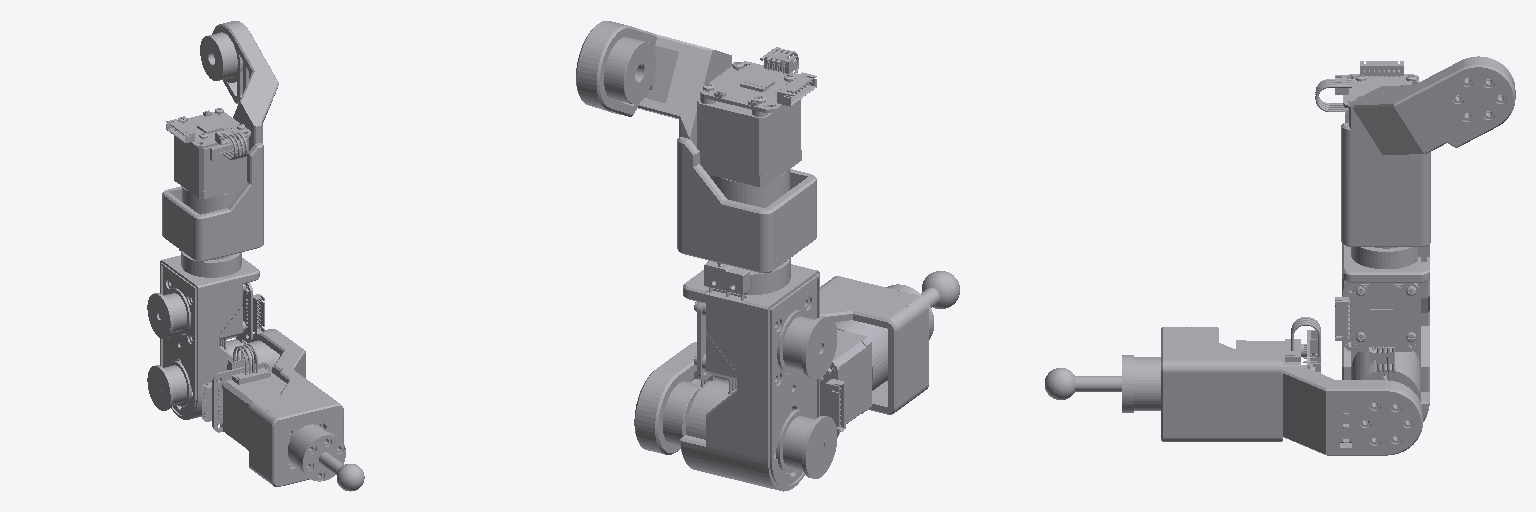
robot.urdf — zero_arm_ovo:
<?xml version='1.0' encoding='utf-8'?>
<robot name="zero_arm_ovo">
  <!--Fresh STEP geometry, CAD +Y mapped to URDF +Z. Joint axes use the prior reference; hardware calibration pending.-->
  <!--Density 1000 kg/m3, joint limits, effort and velocity are placeholders.-->
  <link name="base">
    <inertial>
      <origin xyz="-5.25132771592e-05 -9.50781418959e-05 0.0353147400976" rpy="0 0 0" />
      <mass value="0.599326891320448" />
      <inertia ixx="0.0028133852762345" ixy="-4.9137299116208e-09" ixz="2.5675035728797e-06" iyy="0.0028150319631659" iyz="-2.2411196877041e-06" izz="0.0028853221934123" />
    </inertial>
    <visual>
      <origin xyz="0 0 0" rpy="0 0 0" />
      <geometry>
        <mesh filename="meshes/base.stl" />
      </geometry>
      <material name="base_color">
        <color rgba="0.72 0.72 0.75 1" />
      </material>
    </visual>
    <collision>
      <origin xyz="0 0 0" rpy="0 0 0" />
      <geometry>
        <mesh filename="meshes/base.stl" />
      </geometry>
    </collision>
  </link>
  <link name="link1">
    <inertial>
      <origin xyz="0.00466703823861 -6.88827807955e-05 0.044154756011" rpy="0 0 0" />
      <mass value="0.2690697023518372" />
      <inertia ixx="0.00085164878265805" ixy="-4.7701630491365e-07" ixz="-6.8504988895326e-05" iyy="0.00090973022426214" iyz="-2.8237849295719e-06" izz="0.0001342023861752" />
    </inertial>
    <visual>
      <origin xyz="0 0 0" rpy="0 0 0" />
      <geometry>
        <mesh filename="meshes/link1.stl" />
      </geometry>
      <material name="link1_color">
        <color rgba="0.72 0.72 0.75 1" />
      </material>
    </visual>
    <collision>
      <origin xyz="0 0 0" rpy="0 0 0" />
      <geometry>
        <mesh filename="meshes/link1.stl" />
      </geometry>
    </collision>
  </link>
  <link name="link2">
    <inertial>
      <origin xyz="0.0158818074648 -0.000124089798024 0.116480554286" rpy="0 0 0" />
      <mass value="0.3430721223716928" />
      <inertia ixx="0.001746962886185" ixy="9.7803158048513e-07" ixz="-1.9283488596223e-05" iyy="0.00179164641067" iyz="-3.2679740146233e-07" izz="0.00015237835862665" />
    </inertial>
    <visual>
      <origin xyz="0 0 0" rpy="0 0 0" />
      <geometry>
        <mesh filename="meshes/link2.stl" />
      </geometry>
      <material name="link2_color">
        <color rgba="0.72 0.72 0.75 1" />
      </material>
    </visual>
    <collision>
      <origin xyz="0 0 0" rpy="0 0 0" />
      <geometry>
        <mesh filename="meshes/link2.stl" />
      </geometry>
    </collision>
  </link>
  <link name="link3">
    <inertial>
      <origin xyz="-0.0320286849508 -0.0409332962763 -0.0475378299768" rpy="0 0 0" />
      <mass value="0.16159443638056842" />
      <inertia ixx="0.00020336531424333" ixy="-3.3155610760828e-05" ixz="-5.7382758594308e-05" iyy="0.00020487444029079" iyz="-4.8177228132067e-05" izz="0.00011972862773918" />
    </inertial>
    <visual>
      <origin xyz="0 0 0" rpy="0 0 0" />
      <geometry>
        <mesh filename="meshes/link3.stl" />
      </geometry>
      <material name="link3_color">
        <color rgba="0.72 0.72 0.75 1" />
      </material>
    </visual>
    <collision>
      <origin xyz="0 0 0" rpy="0 0 0" />
      <geometry>
        <mesh filename="meshes/link3.stl" />
      </geometry>
    </collision>
  </link>
  <link name="link4">
    <inertial>
      <origin xyz="-0.0042240675954 -6.33570940024e-06 -0.0450968772272" rpy="0 0 0" />
      <mass value="0.15872704283995062" />
      <inertia ixx="0.00017688638388463" ixy="3.6220909640916e-07" ixz="2.3906529938391e-06" iyy="0.00018656278988246" iyz="-8.3867586454131e-07" izz="5.3101946571239e-05" />
    </inertial>
    <visual>
      <origin xyz="0 0 0" rpy="0 0 0" />
      <geometry>
        <mesh filename="meshes/link4.stl" />
      </geometry>
      <material name="link4_color">
        <color rgba="0.72 0.72 0.75 1" />
      </material>
    </visual>
    <collision>
      <origin xyz="0 0 0" rpy="0 0 0" />
      <geometry>
        <mesh filename="meshes/link4.stl" />
      </geometry>
    </collision>
  </link>
  <link name="link5">
    <inertial>
      <origin xyz="-0.0314209301327 -0.0660612781571 0.00018950371412" rpy="0 0 0" />
      <mass value="0.1564668094346636" />
      <inertia ixx="0.00020425349636475" ixy="-6.2589702271727e-05" ixz="4.0020750090099e-07" iyy="7.5433567025597e-05" iyz="-6.3616422168936e-07" izz="0.00023698769470648" />
    </inertial>
    <visual>
      <origin xyz="0 0 0" rpy="0 0 0" />
      <geometry>
        <mesh filename="meshes/link5.stl" />
      </geometry>
      <material name="link5_color">
        <color rgba="0.72 0.72 0.75 1" />
      </material>
    </visual>
    <collision>
      <origin xyz="0 0 0" rpy="0 0 0" />
      <geometry>
        <mesh filename="meshes/link5.stl" />
      </geometry>
    </collision>
  </link>
  <link name="link6">
    <inertial>
      <origin xyz="1.52300899341e-10 -0.00337937571528 4.98874275223e-11" rpy="0 0 0" />
      <mass value="0.016323644728689444" />
      <inertia ixx="5.3478614931902e-06" ixy="1.3878117591544e-16" ixz="3.2057840391779e-16" iyy="1.4346331292707e-06" iyz="-4.4139699137822e-16" izz="5.3478614922713e-06" />
    </inertial>
    <visual>
      <origin xyz="0 0 0" rpy="0 0 0" />
      <geometry>
        <mesh filename="meshes/link6.stl" />
      </geometry>
      <material name="link6_color">
        <color rgba="0.72 0.72 0.75 1" />
      </material>
    </visual>
    <collision>
      <origin xyz="0 0 0" rpy="0 0 0" />
      <geometry>
        <mesh filename="meshes/link6.stl" />
      </geometry>
    </collision>
  </link>
  <joint name="joint_1" type="revolute">
    <parent link="base" />
    <child link="link1" />
    <origin xyz="0 0 0.05187409819" rpy="0 0 0" />
    <axis xyz="0 -2.05103428515e-10 1" />
    <limit lower="-3.141592653589793" upper="3.141592653589793" effort="10" velocity="3.14" />
  </joint>
  <joint name="joint_2" type="revolute">
    <parent link="link1" />
    <child link="link2" />
    <origin xyz="-0.0235 -1.8280028029e-11 0.1091259018" rpy="0 0 0" />
    <axis xyz="1 -4.206742894e-20 -8.62817390442e-30" />
    <limit lower="-3.141592653589793" upper="3.141592653589793" effort="10" velocity="3.14" />
  </joint>
  <joint name="joint_3" type="revolute">
    <parent link="link2" />
    <child link="link3" />
    <origin xyz="0.067 -7.5674424469e-21 0.2" rpy="0 0 0" />
    <axis xyz="-1 2.05103428642e-10 -2.051034285e-10" />
    <limit lower="-3.141592653589793" upper="3.141592653589793" effort="10" velocity="3.14" />
  </joint>
  <joint name="joint_4" type="revolute">
    <parent link="link3" />
    <child link="link4" />
    <origin xyz="-0.0435000000072 -0.047631397116 -0.110000000028" rpy="0 0 0" />
    <axis xyz="-2.05103428658e-10 -5.89793225715e-10 1" />
    <limit lower="-3.141592653589793" upper="3.141592653589793" effort="10" velocity="3.14" />
  </joint>
  <joint name="joint_5" type="revolute">
    <parent link="link4" />
    <child link="link5" />
    <origin xyz="0.0414999999854 3.04901451309e-11 -0.0750000000015" rpy="0 0 0" />
    <axis xyz="-1 1.00000008284e-09 -2.05103428068e-10" />
    <limit lower="-3.141592653589793" upper="3.141592653589793" effort="10" velocity="3.14" />
  </joint>
  <joint name="joint_6" type="revolute">
    <parent link="link5" />
    <child link="link6" />
    <origin xyz="-0.04150000013 -0.129999999958 -1.14502296533e-11" rpy="0 0 0" />
    <axis xyz="1.41020693981e-09 1 1.79586368563e-10" />
    <limit lower="-3.141592653589793" upper="3.141592653589793" effort="10" velocity="3.14" />
  </joint>
</robot>

--- Facts derived from the render (not from the file) ---
3 views of the same robot in one strip: view 1: azimuth 30°, elevation 25°; view 2: azimuth 150°, elevation 25°; view 3: azimuth 270°, elevation 25° (orthographic).
Model zero_arm_ovo with 7 links and 6 joints (6 revolute), rooted at base, posed every joint at zero.
Links seen in each view (by area): view 1: link3, link4, link5, link6; view 2: link3, link4, link5, link6; view 3: link5, link3, link4, link6.
Link boxes in pixels (box(x1,y1,x2,y2)): link3: box(162, 21, 278, 261); link4: box(147, 249, 264, 419); link5: box(202, 329, 343, 486); link6: box(288, 424, 364, 491); link3: box(576, 21, 816, 272); link4: box(680, 258, 837, 491); link5: box(634, 276, 928, 454); link6: box(886, 271, 959, 339); link5: box(1161, 317, 1422, 455); link3: box(1315, 56, 1515, 246); link4: box(1335, 244, 1429, 421); link6: box(1045, 355, 1160, 412).
Size in the robot's own frame: 0.086 by 0.2425 by 0.227 metres.
Meshes: 7 distinct files referenced, 4 mesh visuals loaded (4 binary STL); not drawn: 3 (reference not matched to a file when rendering).
